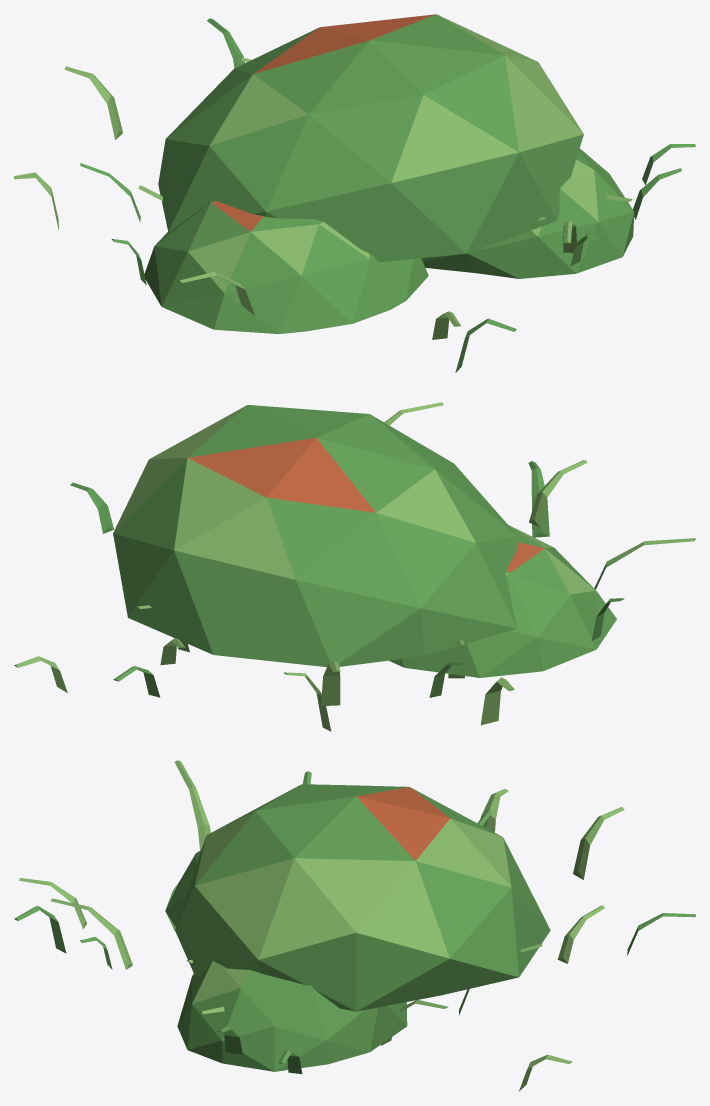
File: sphagnum_moss.glb
3 views of the same model, one above another, from view 1: azimuth 30°, elevation 25°; view 2: azimuth 150°, elevation 25°; view 3: azimuth 270°, elevation 25° (orthographic). The views are drawn at different scales.
Parts seen in each view (by area): view 1: sphagnum_moss.001; view 2: sphagnum_moss.001; view 3: sphagnum_moss.001.
Part boxes in pixels (x1=…): sphagnum_moss.001: x1=14, y1=14, x2=695, y2=372; sphagnum_moss.001: x1=14, y1=402, x2=695, y2=731; sphagnum_moss.001: x1=14, y1=760, x2=695, y2=1091.
Size of the model in its own units: 0.5645 by 0.2162 by 0.62.
